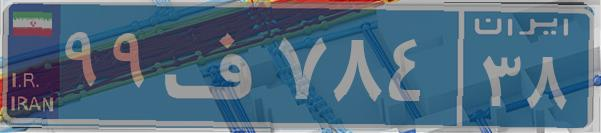3: (475, 38, 525, 113)
4: (385, 28, 445, 110)
7: (273, 28, 330, 110)
8: (330, 28, 385, 110), (525, 38, 570, 115)
9: (57, 26, 110, 107), (110, 28, 158, 105)
ف: (158, 15, 273, 115)
